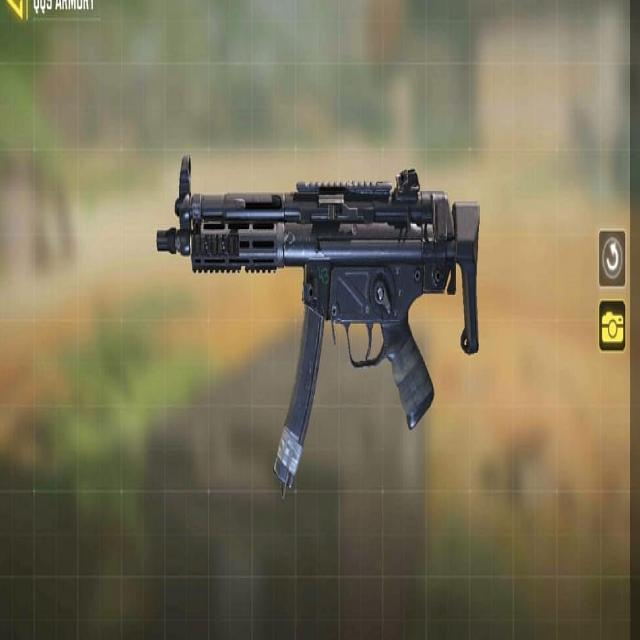Weapon: (156, 154, 479, 494)
